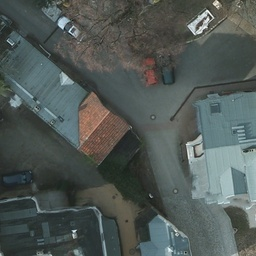car: (55, 14, 89, 48), (1, 166, 33, 186), (139, 53, 157, 87), (160, 51, 173, 86)
